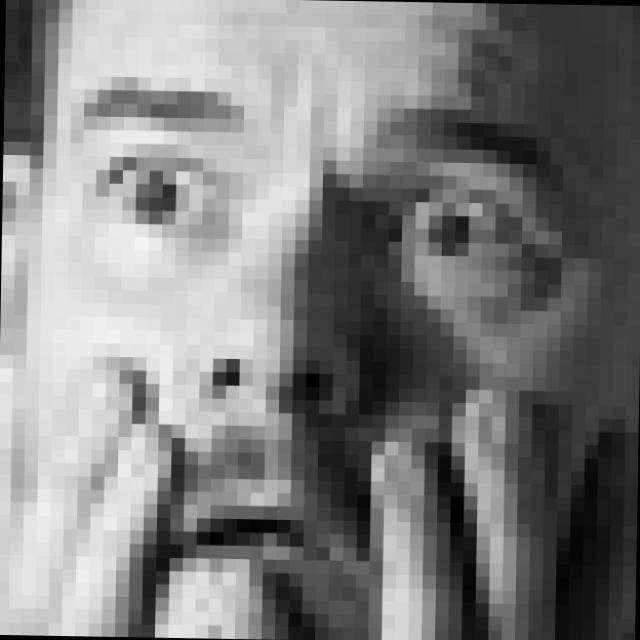fear: (66, 53, 606, 620)
